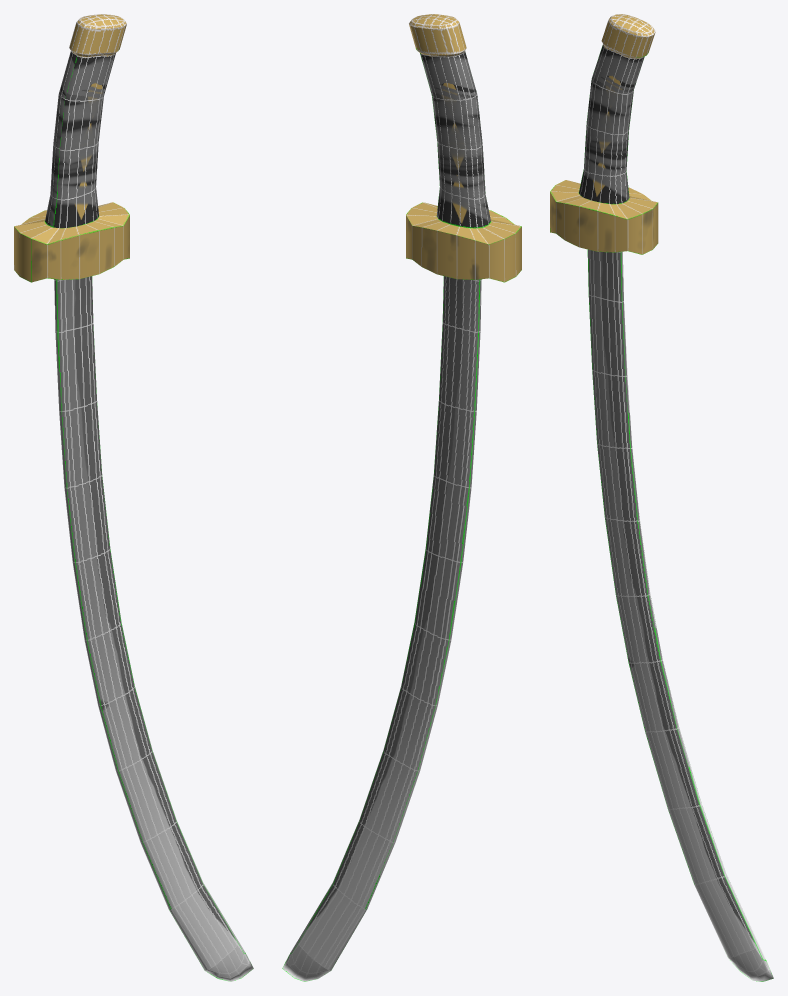
File: Katana.fbx
The picture shows the model from 3 angles, left to right: view 1: azimuth 30°, elevation 25°; view 2: azimuth 150°, elevation 25°; view 3: azimuth 330°, elevation 25°; orthographic projection. The views are drawn at different scales.
Parts seen in each view (by area): view 1: Box001; view 2: Box001; view 3: Box001.
Part boxes in pixels (left/top/right/bottom): Box001: left=14, top=14, right=253, bottom=981; Box001: left=282, top=14, right=521, bottom=981; Box001: left=550, top=14, right=773, bottom=981.
Bounding box in the file's own units: 50.49 × 12.8 × 206.
